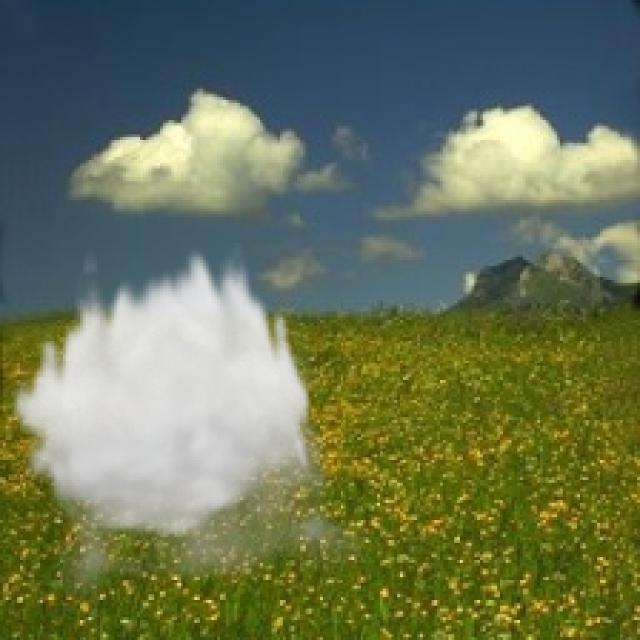Smoke: (9, 242, 378, 608)
